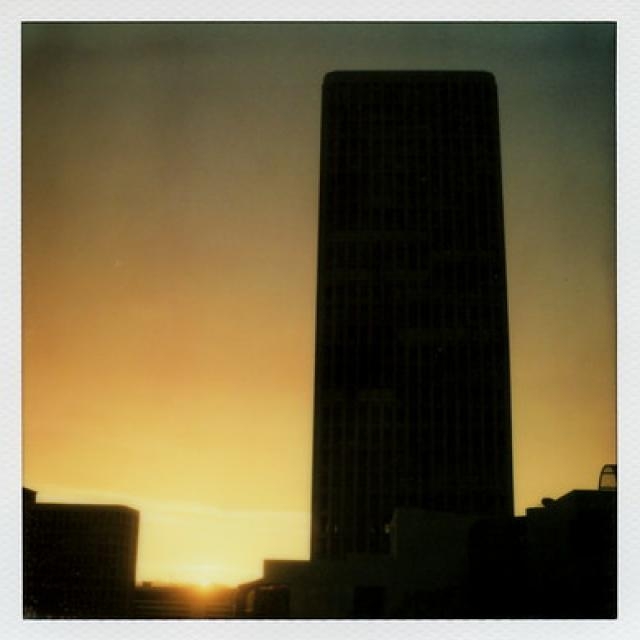Normal_building: (314, 64, 520, 611)
